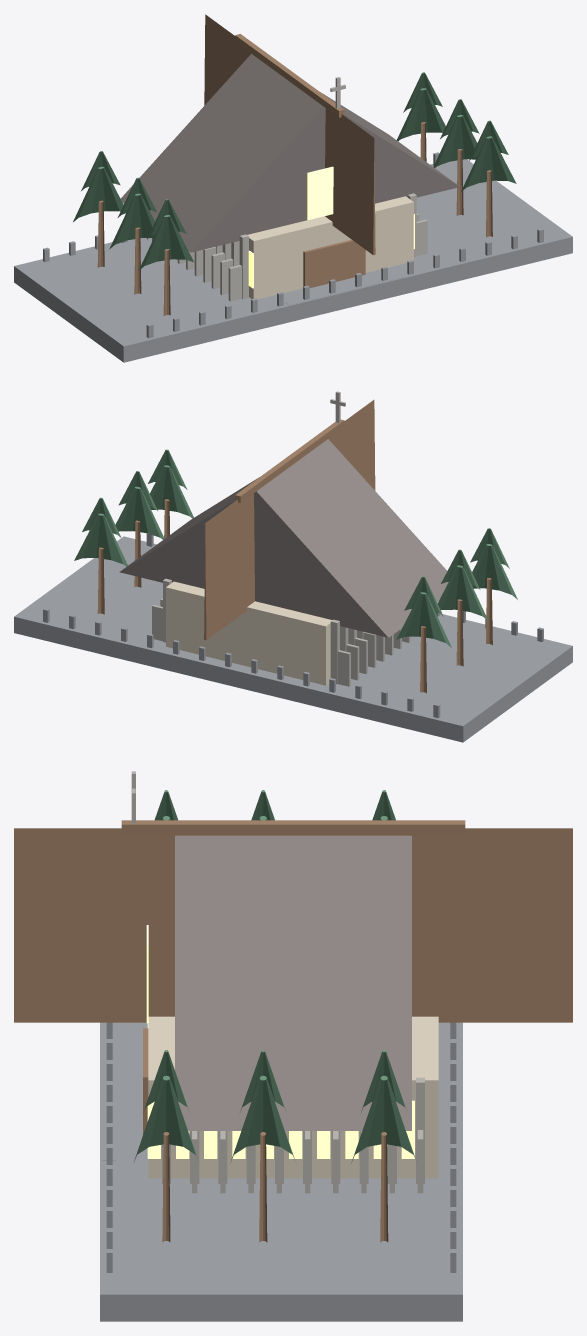
File: lm_64_nha_tho_cam_ly_son_cuoc_central_highlands_rong_roof_church.glb
The picture shows the model from 3 angles, top to bottom: view 1: azimuth 30°, elevation 25°; view 2: azimuth 150°, elevation 25°; view 3: azimuth 270°, elevation 25°; orthographic projection. The views are drawn at different scales.
Parts seen in each view (by area): view 1: lm_64_nha_tho_cam_ly_son_cuoc_central_highlands_rong_roof_ch; view 2: lm_64_nha_tho_cam_ly_son_cuoc_central_highlands_rong_roof_ch; view 3: lm_64_nha_tho_cam_ly_son_cuoc_central_highlands_rong_roof_ch.
Part boxes in pixels (left/top/right/bottom): lm_64_nha_tho_cam_ly_son_cuoc_central_highlands_rong_roof_ch: left=14, top=14, right=572, bottom=362; lm_64_nha_tho_cam_ly_son_cuoc_central_highlands_rong_roof_ch: left=14, top=391, right=572, bottom=742; lm_64_nha_tho_cam_ly_son_cuoc_central_highlands_rong_roof_ch: left=14, top=771, right=572, bottom=1321.
Size of the model in its own units: 46 by 21.8 by 30.
